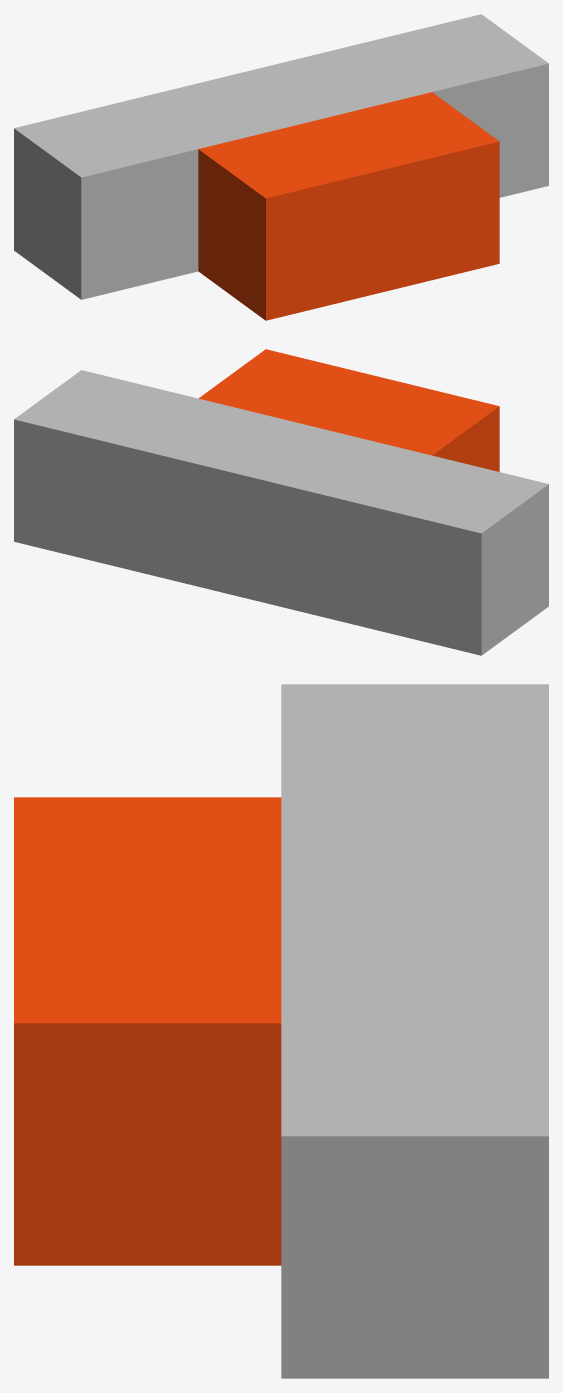
Rendered from spaceman_level_4.glb.
The picture shows the model from 3 angles, top to bottom: view 1: azimuth 30°, elevation 25°; view 2: azimuth 150°, elevation 25°; view 3: azimuth 270°, elevation 25°; orthographic projection. The views are drawn at different scales.
Bounding box in the file's own units: 4 × 1 × 2.
